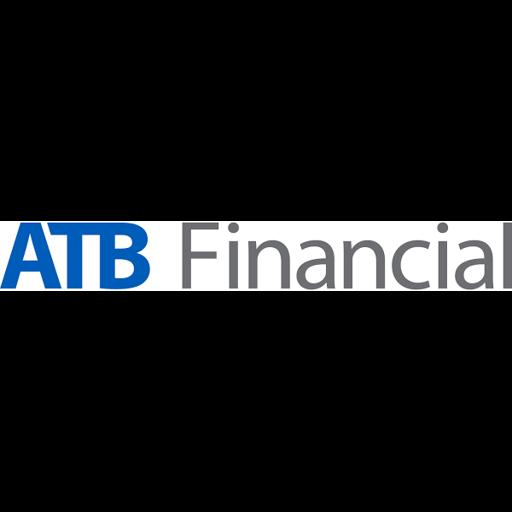ATB Financial: (0, 221, 512, 291)
